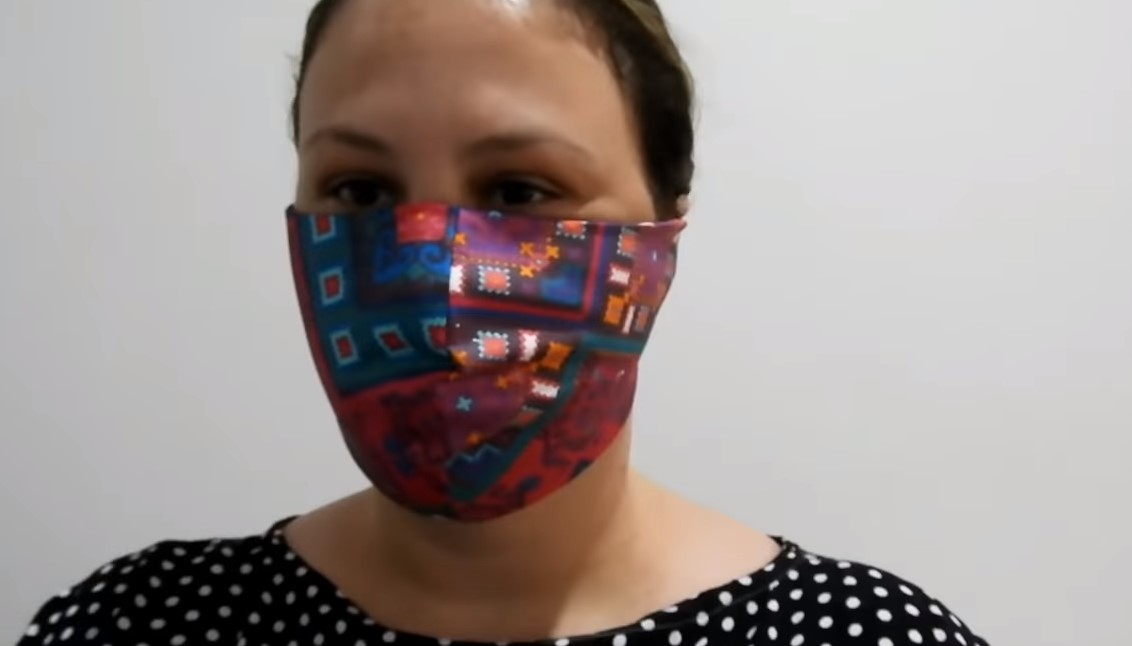face_with_mask: (284, 0, 706, 527)
